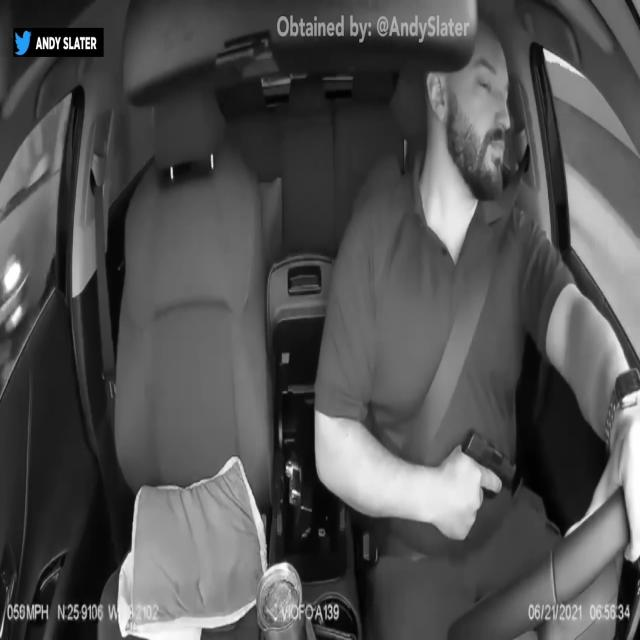senjata_api: (462, 427, 518, 500)
